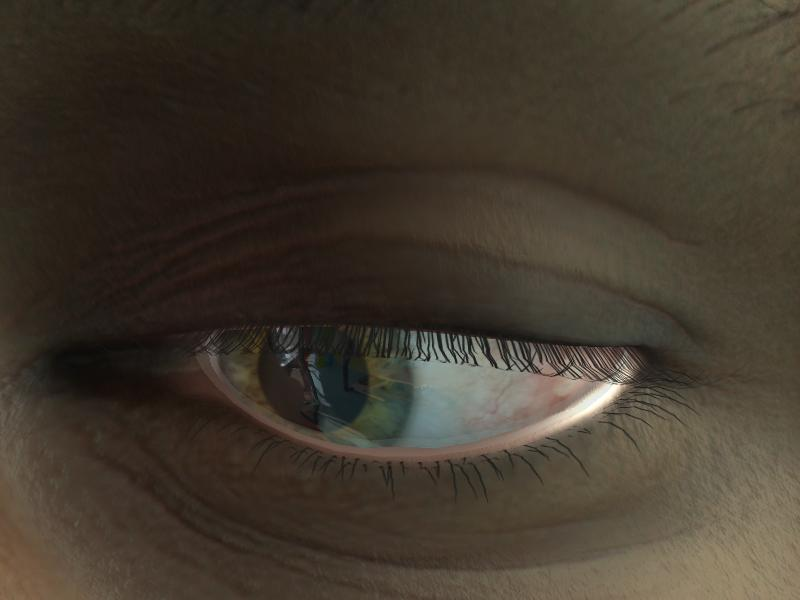eye: (212, 322, 415, 449)
